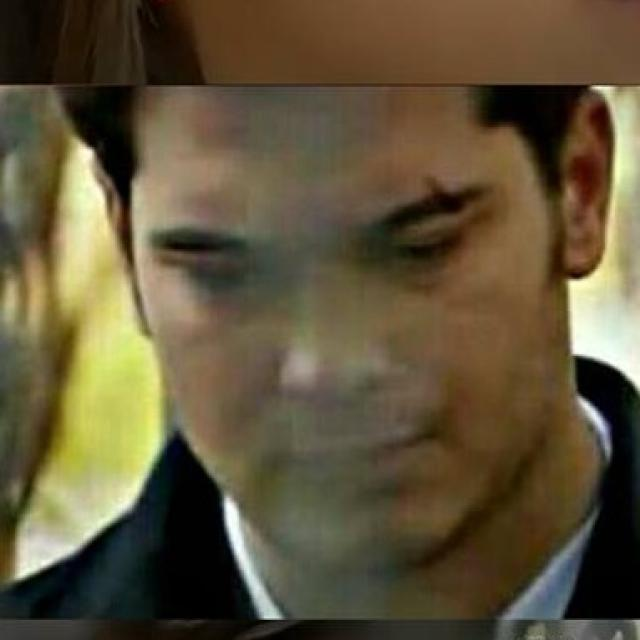Depress: (132, 87, 565, 570)
